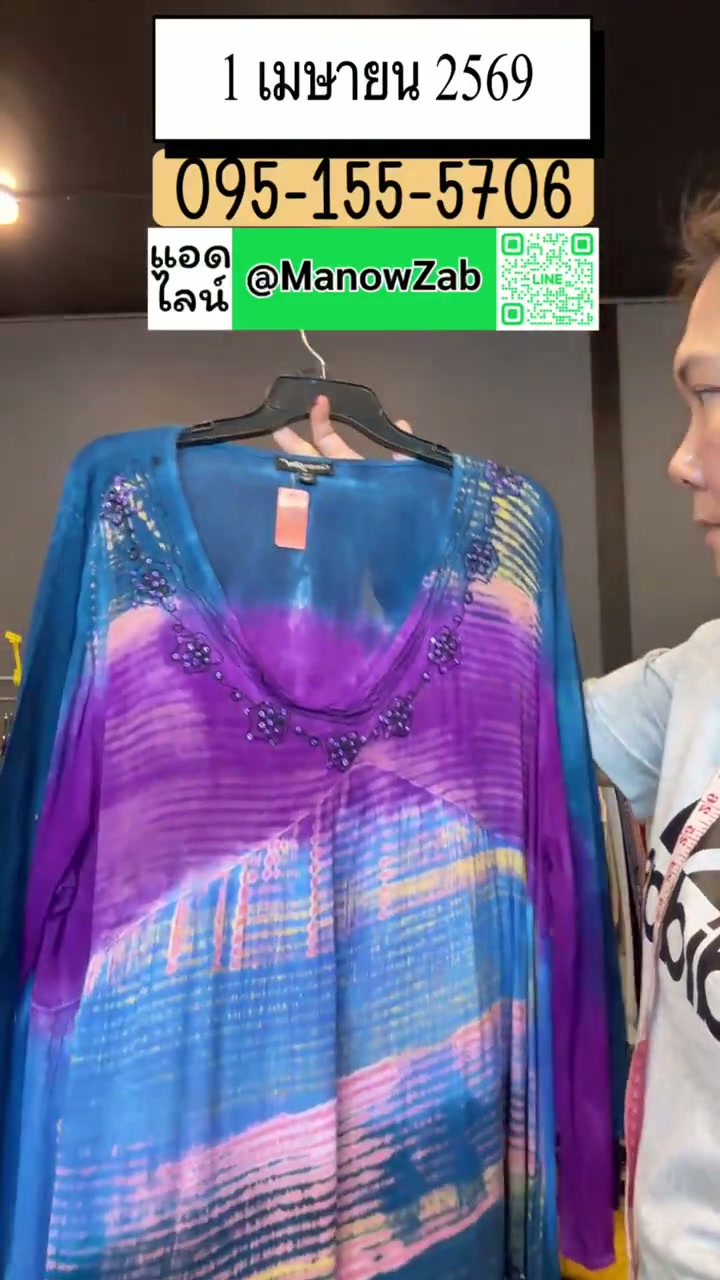display_shirt: (0, 428, 613, 1279)
